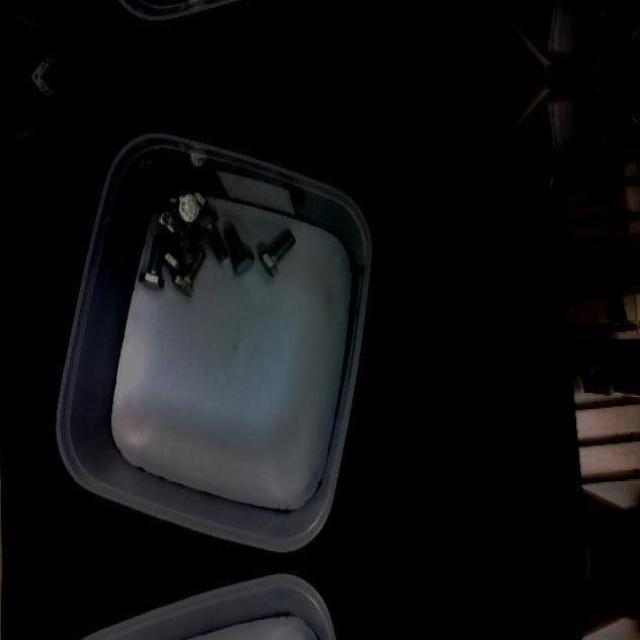screw: (258, 230, 296, 277), (196, 210, 229, 262), (225, 225, 255, 275), (158, 230, 198, 264), (169, 190, 200, 223)
